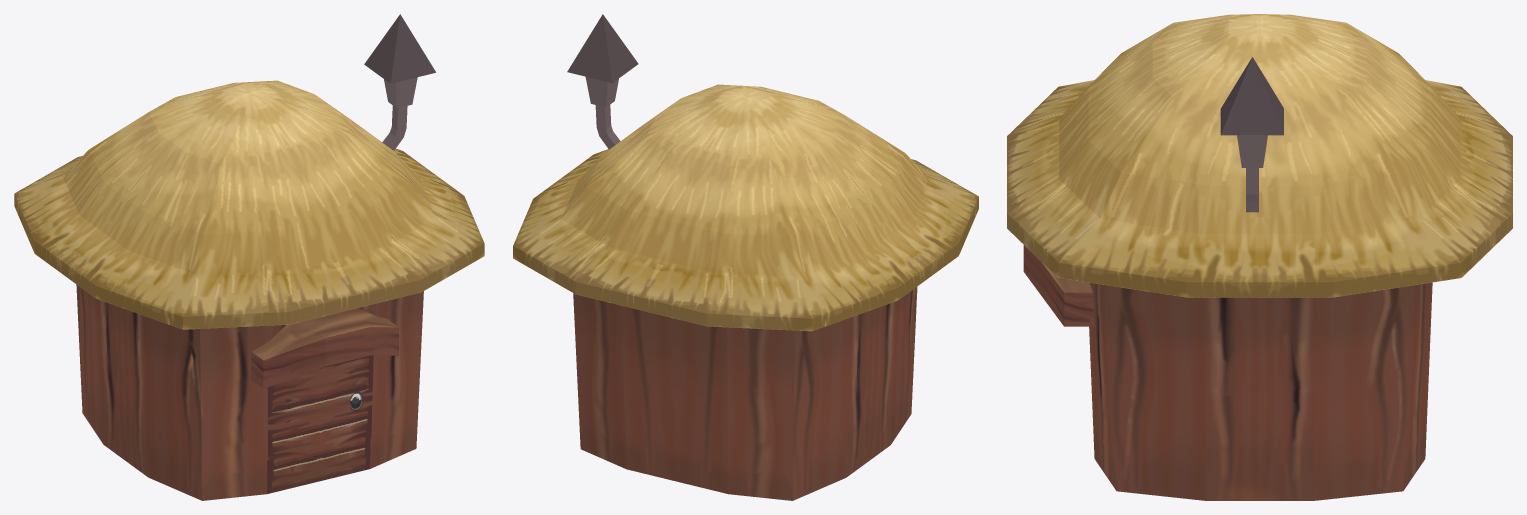
The model's file is hut.gltf.
The picture shows the model from 3 angles, left to right: view 1: azimuth 30°, elevation 25°; view 2: azimuth 150°, elevation 25°; view 3: azimuth 270°, elevation 25°; orthographic projection. The views are drawn at different scales.
Parts seen in each view (by area): view 1: HutMesh; view 2: HutMesh; view 3: HutMesh.
Part boxes in pixels (bbox=[...]): HutMesh: bbox=[14, 14, 484, 500]; HutMesh: bbox=[513, 14, 978, 500]; HutMesh: bbox=[1007, 14, 1512, 500].
Size of what is drawn, in the model's own units: 4.41 by 4.39 by 4.39.
Materials: 1 (1 with a texture image).
